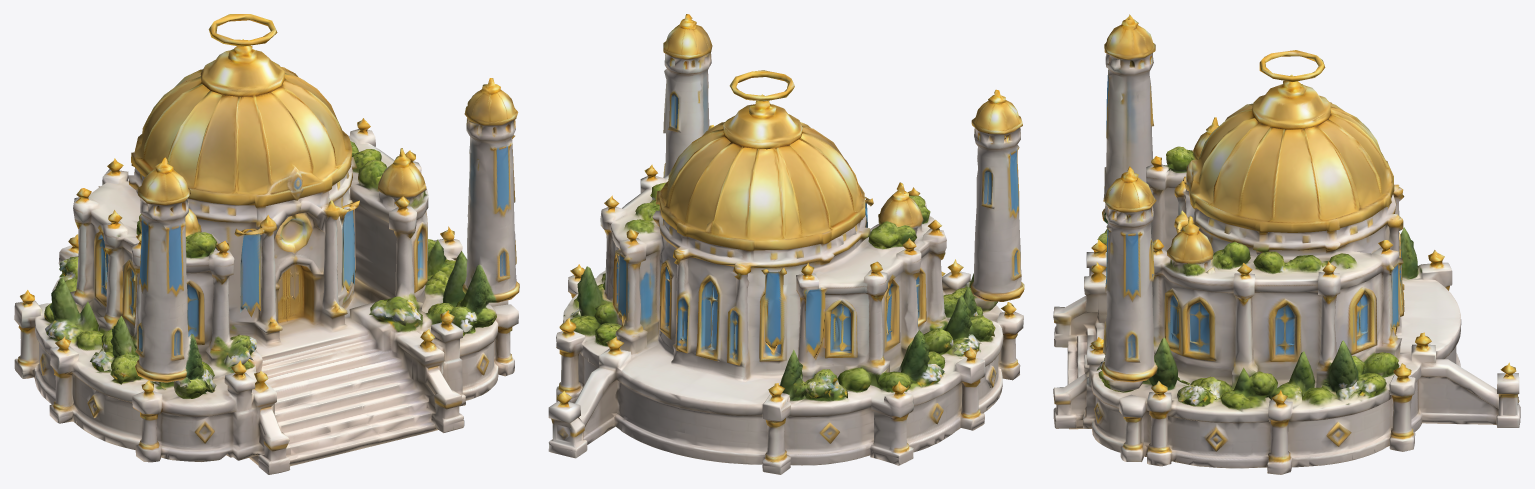
Rendered from Halo_Cathedral_HD_plain.glb.
The picture shows the model from 3 angles, left to right: view 1: azimuth 30°, elevation 25°; view 2: azimuth 150°, elevation 25°; view 3: azimuth 270°, elevation 25°; orthographic projection. The views are drawn at different scales.
Visible parts, largest first — view 1: tripo_node_90159d64-2b87-4569-8e64-5cb3a178206c; view 2: tripo_node_90159d64-2b87-4569-8e64-5cb3a178206c; view 3: tripo_node_90159d64-2b87-4569-8e64-5cb3a178206c.
Boxes of the visible parts, bbox=[...] form: tripo_node_90159d64-2b87-4569-8e64-5cb3a178206c: bbox=[14, 14, 519, 474]; tripo_node_90159d64-2b87-4569-8e64-5cb3a178206c: bbox=[548, 14, 1024, 474]; tripo_node_90159d64-2b87-4569-8e64-5cb3a178206c: bbox=[1053, 14, 1520, 474].
Bounding box in the file's own units: 0.9749 × 0.745 × 0.9778.
Materials: 1 (1 with a texture image).
